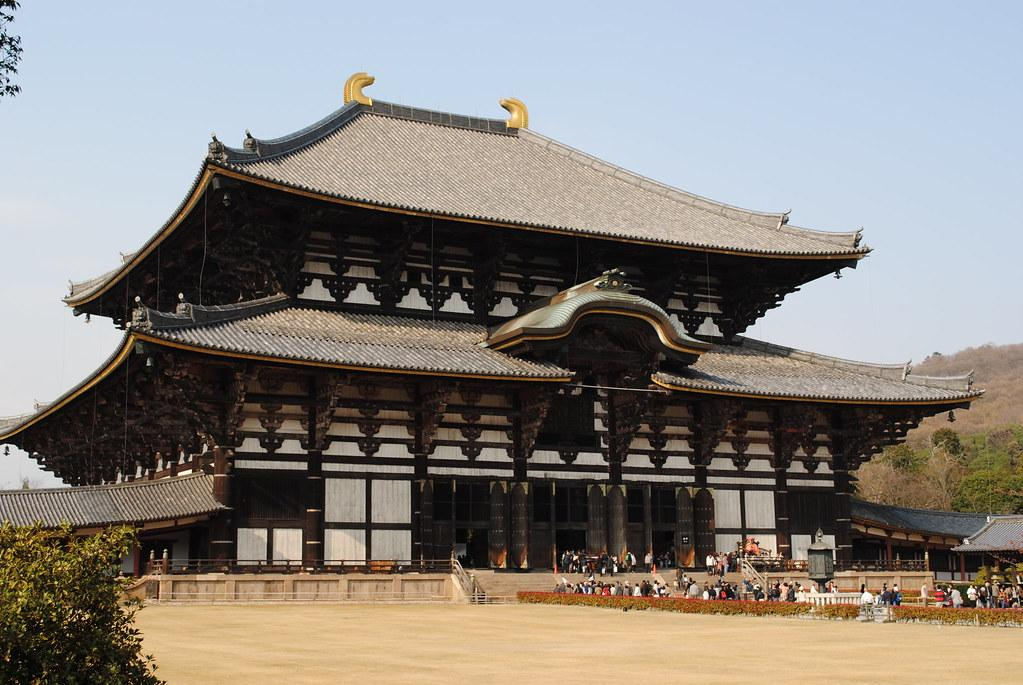temple: (2, 70, 989, 603)
